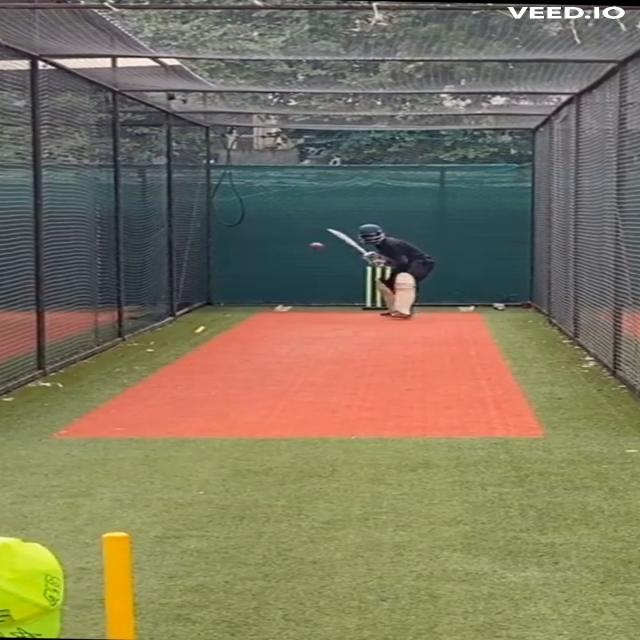ball: (308, 242, 326, 252)
stump: (363, 266, 392, 308)
